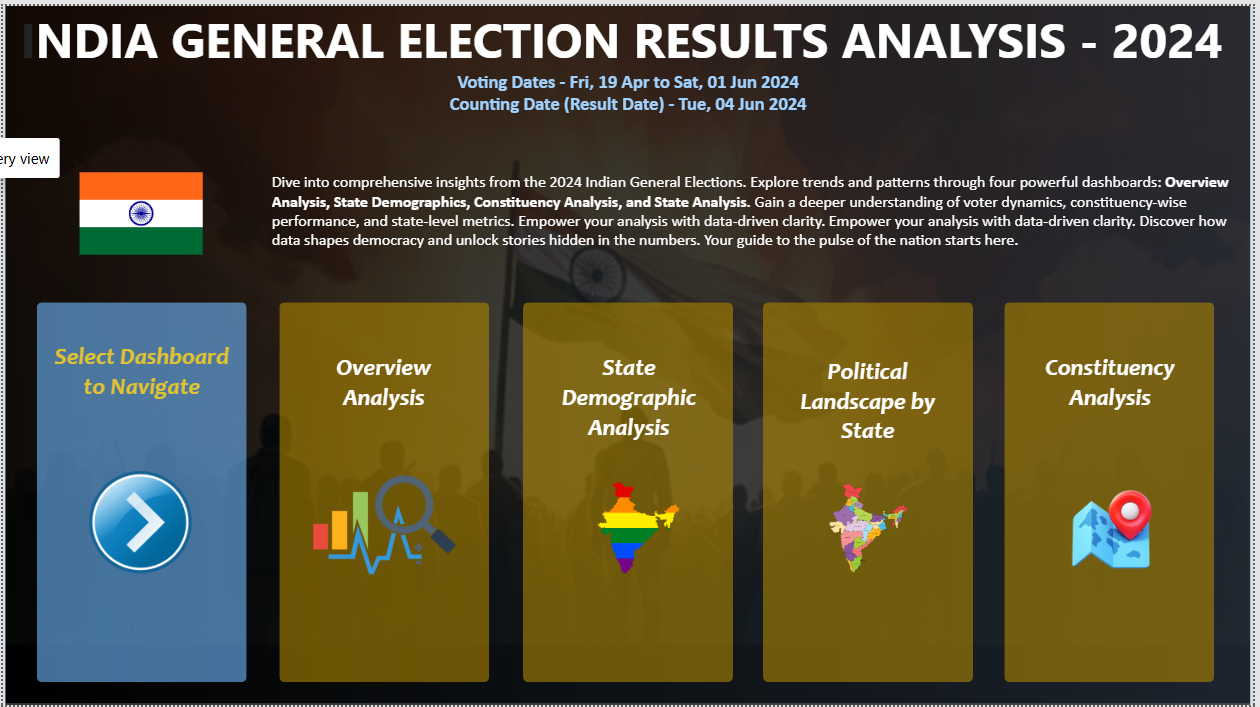

What the dashboard file says about the page in this screenshot:
{"tool":"powerbi","page":{"name":"Landing Page","canvas":[1250,700],"ordinal":0},"visuals":[{"type":"image","box":[0,0,1250,700],"z":0},{"type":"textbox","box":[0,0,1250,134.4],"z":1000},{"type":"textbox","box":[268.8,166.2,967.5,87.5],"z":2000},{"type":"image","box":[63.8,166.2,148.8,82.5],"z":3000},{"type":"shape","box":[1001.2,296.2,210,380],"z":4000},{"type":"shape","box":[275.6,296.2,210,380],"z":5000},{"type":"shape","box":[759.4,296.2,210,380],"z":6000},{"type":"shape","box":[33.8,296.2,210,380],"z":7000},{"type":"textbox","box":[41.2,335,195,66.2],"z":8000},{"type":"shape","box":[520,296.2,210,380],"z":9000},{"type":"textbox","box":[532.2,346.7,186.7,96.7],"z":9001},{"type":"textbox","box":[771.1,350,186.7,93.3],"z":9002},{"type":"textbox","box":[287.8,346.7,186.7,65.6],"z":9003},{"type":"textbox","box":[1013.3,346.7,186.7,65.6],"z":9004},{"type":"image","box":[310,467.8,142.2,102.2],"z":9005},{"type":"image","box":[561.1,476.7,148.9,91.1],"z":9006},{"type":"image","box":[794.4,476.7,140,93.3],"z":9007},{"type":"image","box":[1036.7,481.1,145.6,86.7],"z":9008},{"type":"image","box":[66.7,465.6,142.2,102.2],"z":9009}]}

Visuals, with their boxes on the page's 1250x700 design canvas (x1, y1, x2, y2). These are canvas units, not pixel positions in the 1260x707 screenshot, which may show the page scaled, cropped or inside an application window:
image: (x1=0, y1=0, x2=1250, y2=700)
textbox: (x1=0, y1=0, x2=1250, y2=134)
textbox: (x1=269, y1=166, x2=1236, y2=254)
image: (x1=64, y1=166, x2=213, y2=249)
shape: (x1=1001, y1=296, x2=1211, y2=676)
shape: (x1=276, y1=296, x2=486, y2=676)
shape: (x1=759, y1=296, x2=969, y2=676)
shape: (x1=34, y1=296, x2=244, y2=676)
textbox: (x1=41, y1=335, x2=236, y2=401)
shape: (x1=520, y1=296, x2=730, y2=676)
textbox: (x1=532, y1=347, x2=719, y2=443)
textbox: (x1=771, y1=350, x2=958, y2=443)
textbox: (x1=288, y1=347, x2=474, y2=412)
textbox: (x1=1013, y1=347, x2=1200, y2=412)
image: (x1=310, y1=468, x2=452, y2=570)
image: (x1=561, y1=477, x2=710, y2=568)
image: (x1=794, y1=477, x2=934, y2=570)
image: (x1=1037, y1=481, x2=1182, y2=568)
image: (x1=67, y1=466, x2=209, y2=568)
